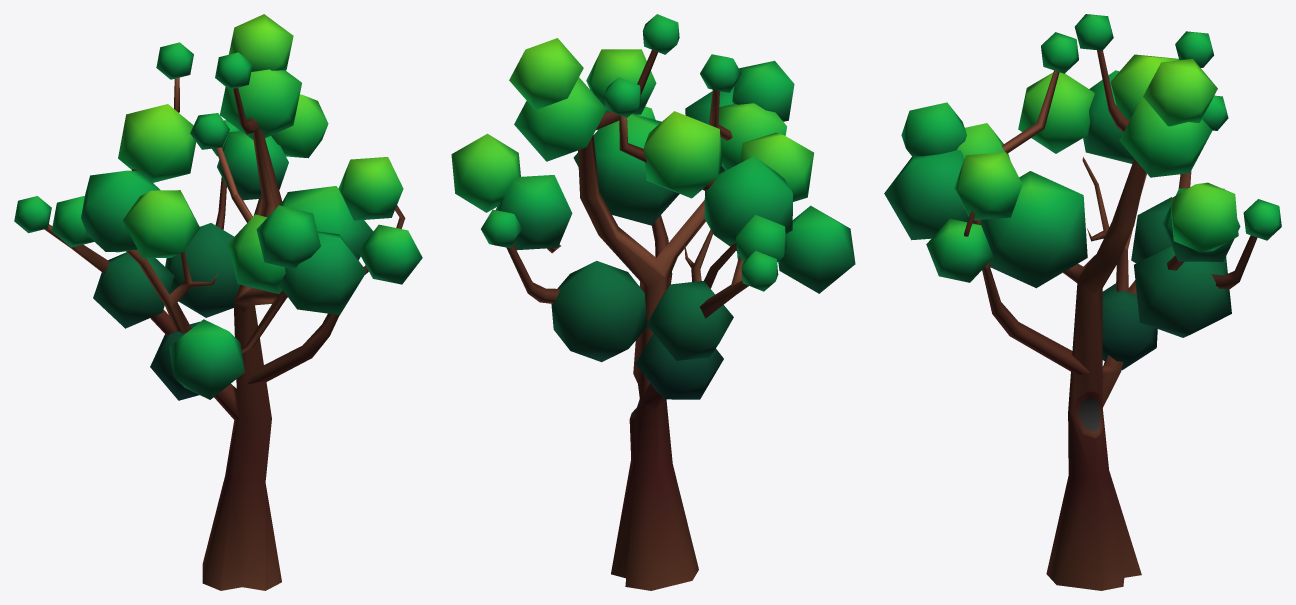
File: Tree_2F.fbx
3 views of the same model, side by side, from view 1: azimuth 30°, elevation 25°; view 2: azimuth 150°, elevation 25°; view 3: azimuth 270°, elevation 25° (orthographic). The views are drawn at different scales.
Visible parts, largest first — view 1: Tree_2F; view 2: Tree_2F; view 3: Tree_2F.
Boxes of the visible parts, x1,y1,x2,y2 form: Tree_2F: (14,14,422,590); Tree_2F: (451,14,855,590); Tree_2F: (884,14,1281,590).
Size of the model in its own units: 5.12 by 8.42 by 5.46.
